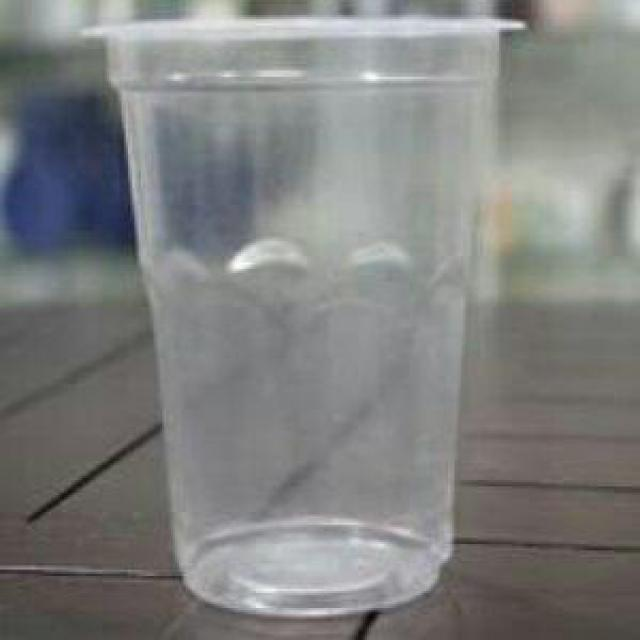plastic cup: (70, 9, 544, 625)
